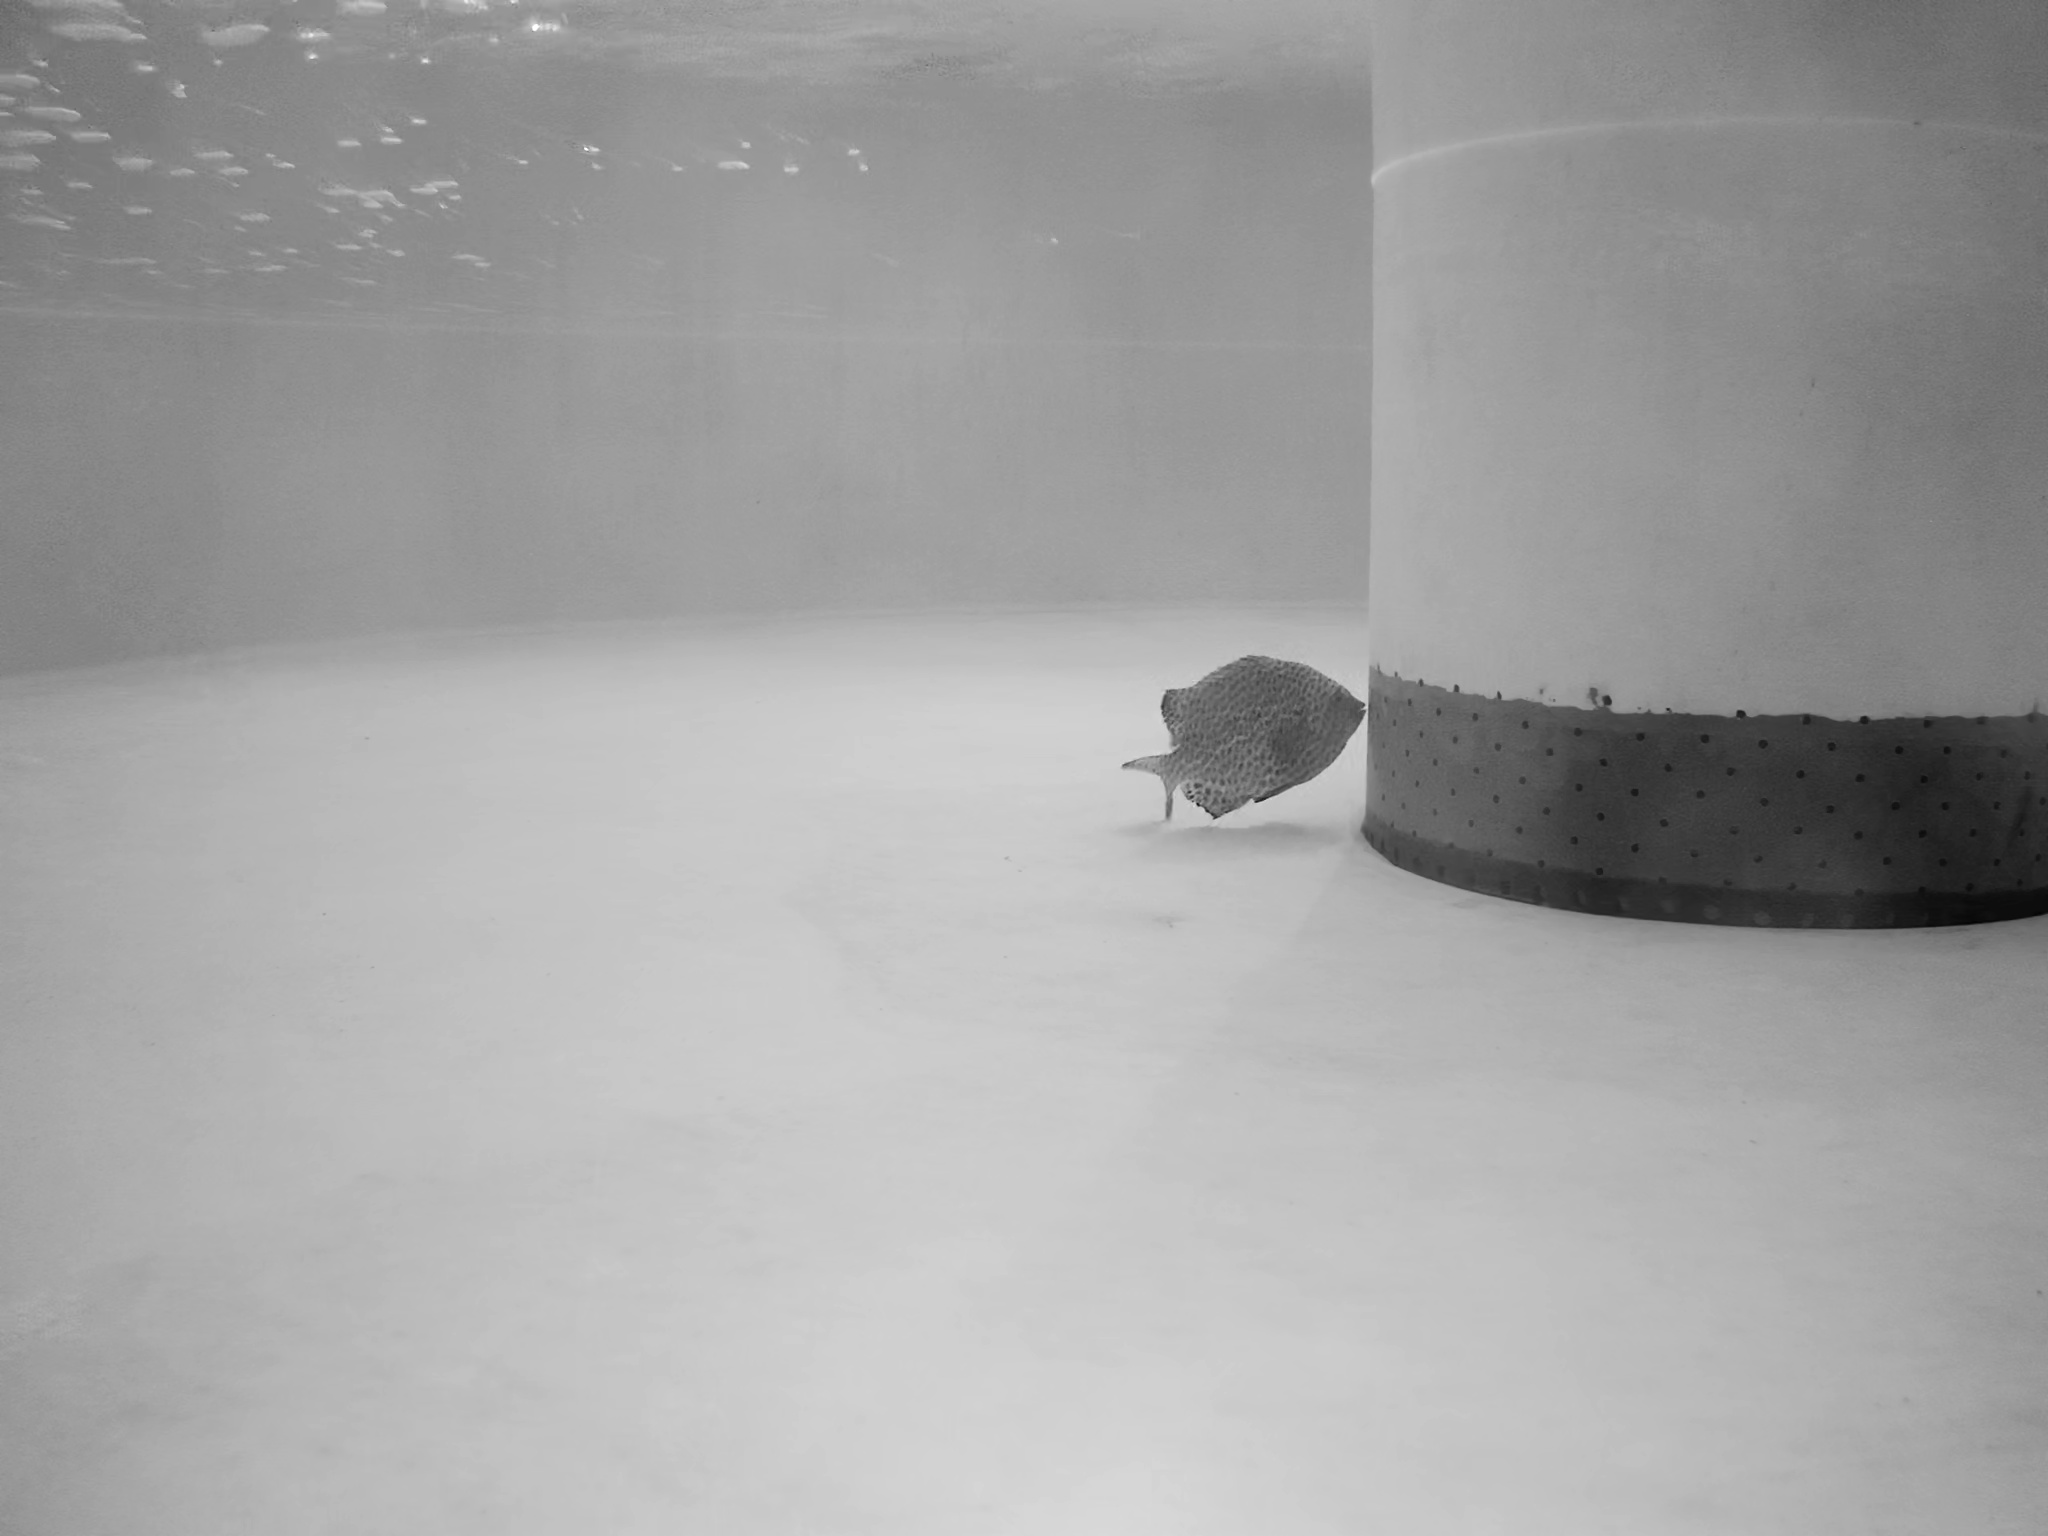fish: (1114, 650, 1371, 821)
